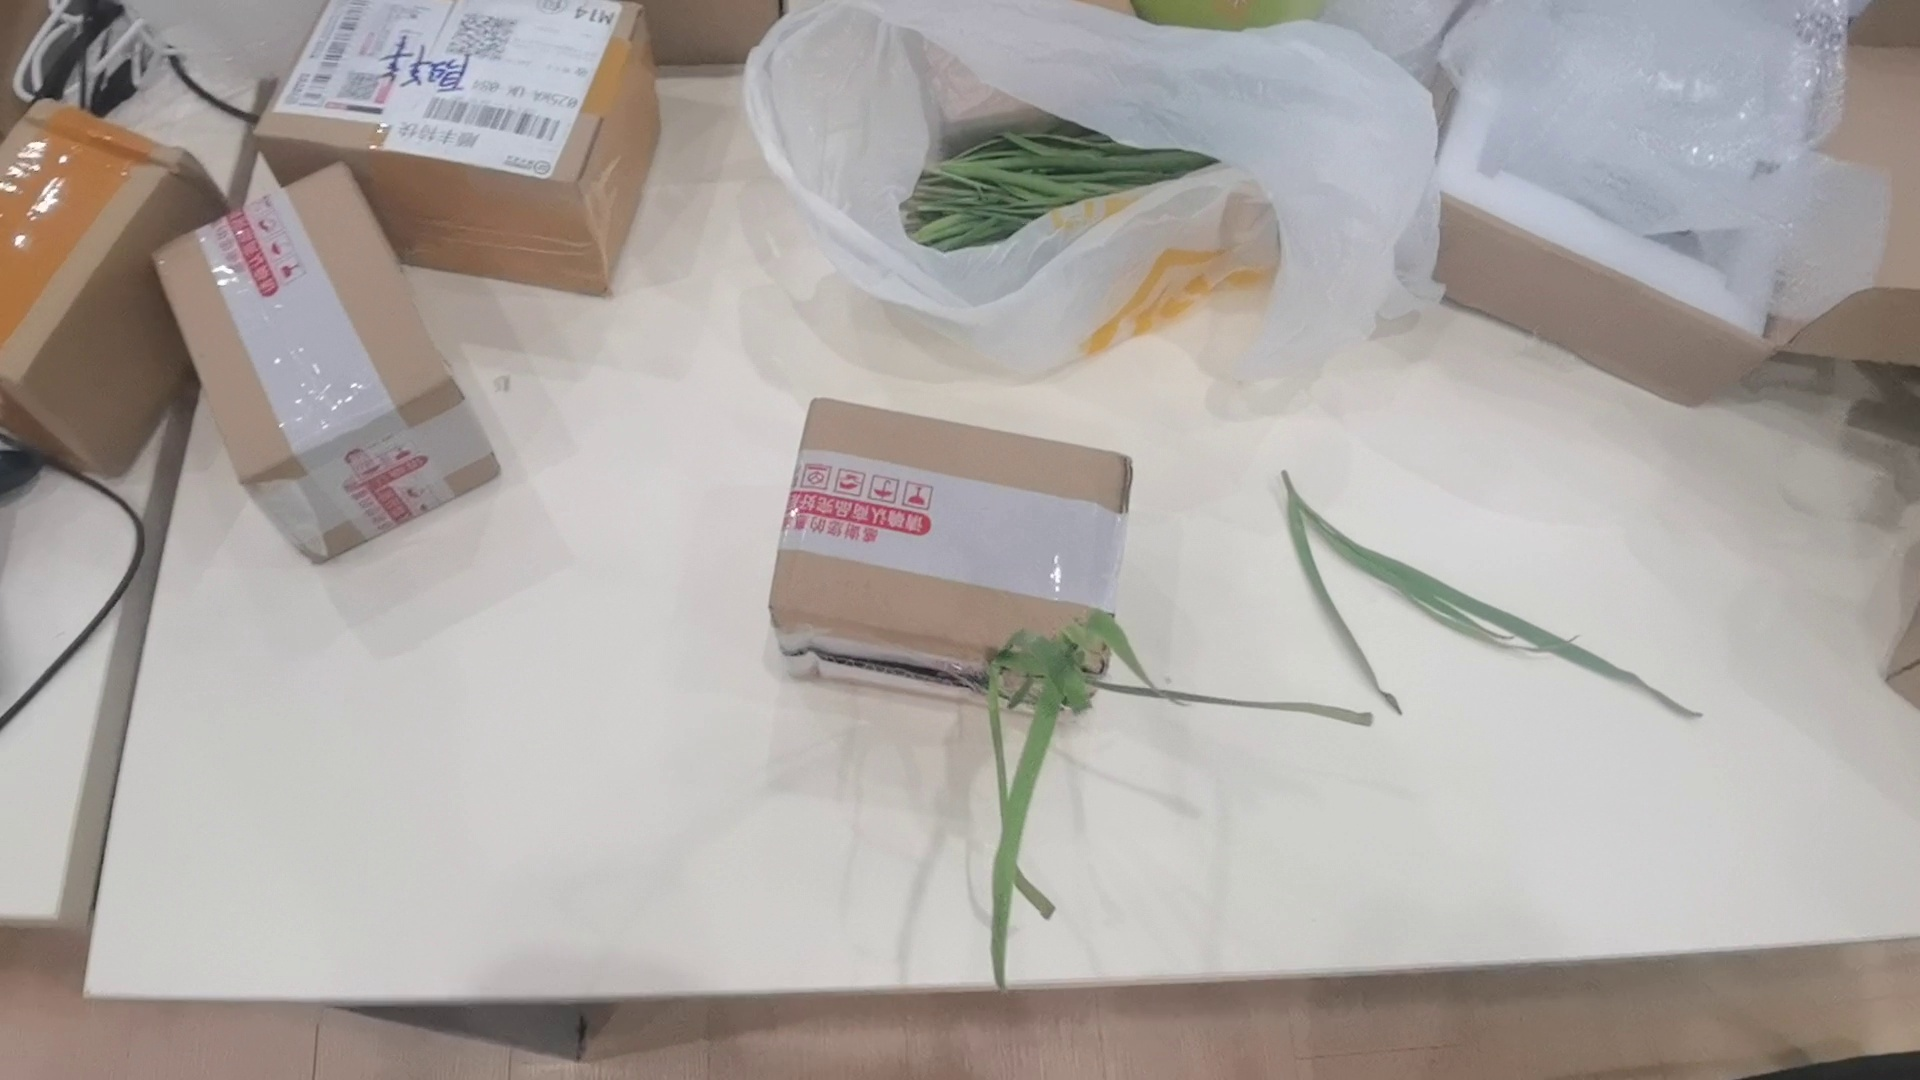chives: (938, 599, 1429, 965), (1269, 452, 1708, 724)
